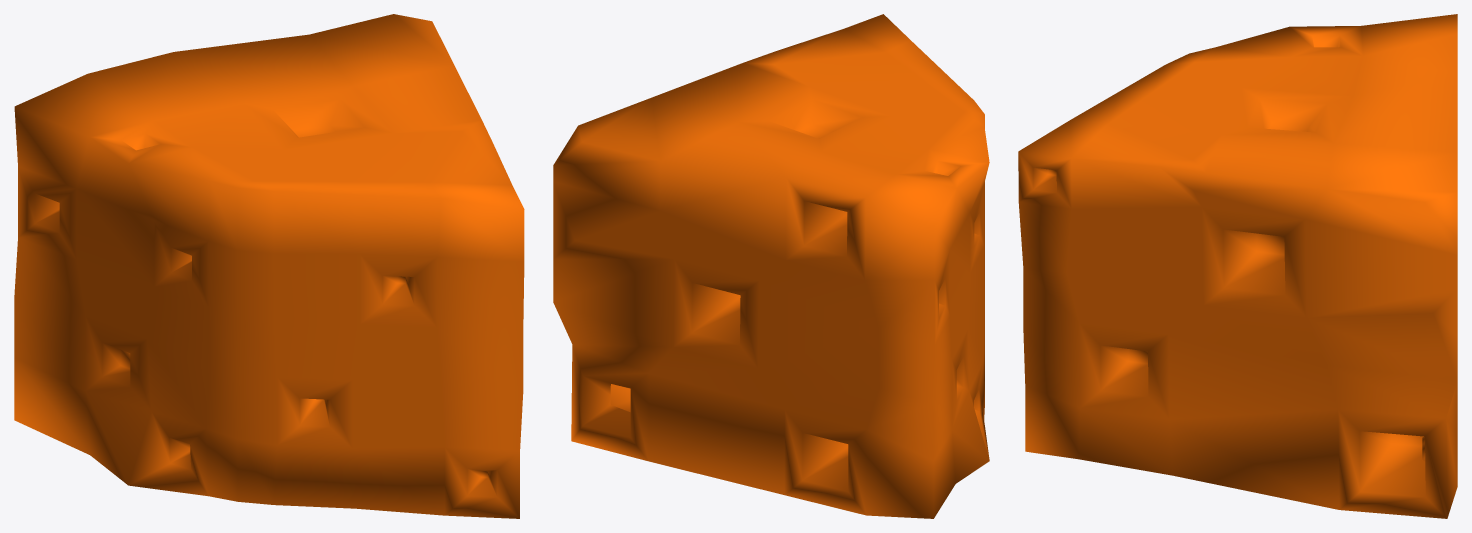
The model's file is Cheese.FBX.
3 views of the same model, side by side, from view 1: azimuth 30°, elevation 25°; view 2: azimuth 150°, elevation 25°; view 3: azimuth 270°, elevation 25° (orthographic). The views are drawn at different scales.
Visible parts, largest first — view 1: Cylinder001; view 2: Cylinder001; view 3: Cylinder001.
Boxes of the visible parts, x1=… form: Cylinder001: x1=14, y1=14, x2=524, y2=518; Cylinder001: x1=553, y1=14, x2=989, y2=518; Cylinder001: x1=1018, y1=14, x2=1457, y2=518.
Size of the model in its own units: 70.79 by 68.1 by 57.3.
